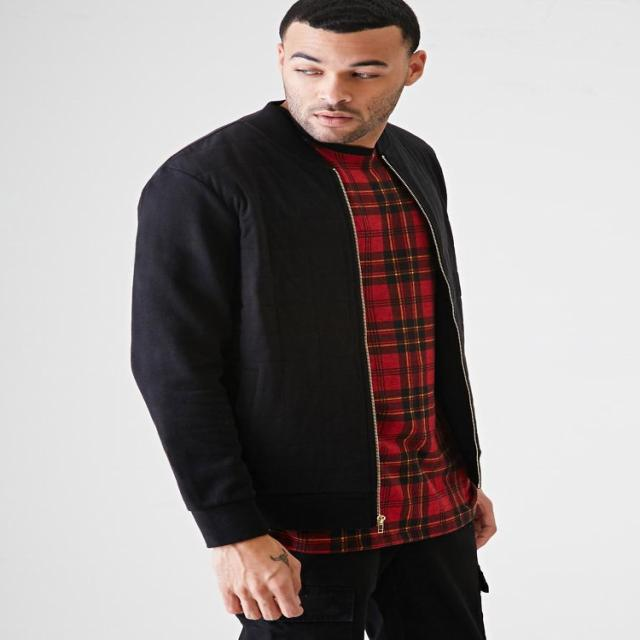Jacket: (125, 120, 490, 548)
